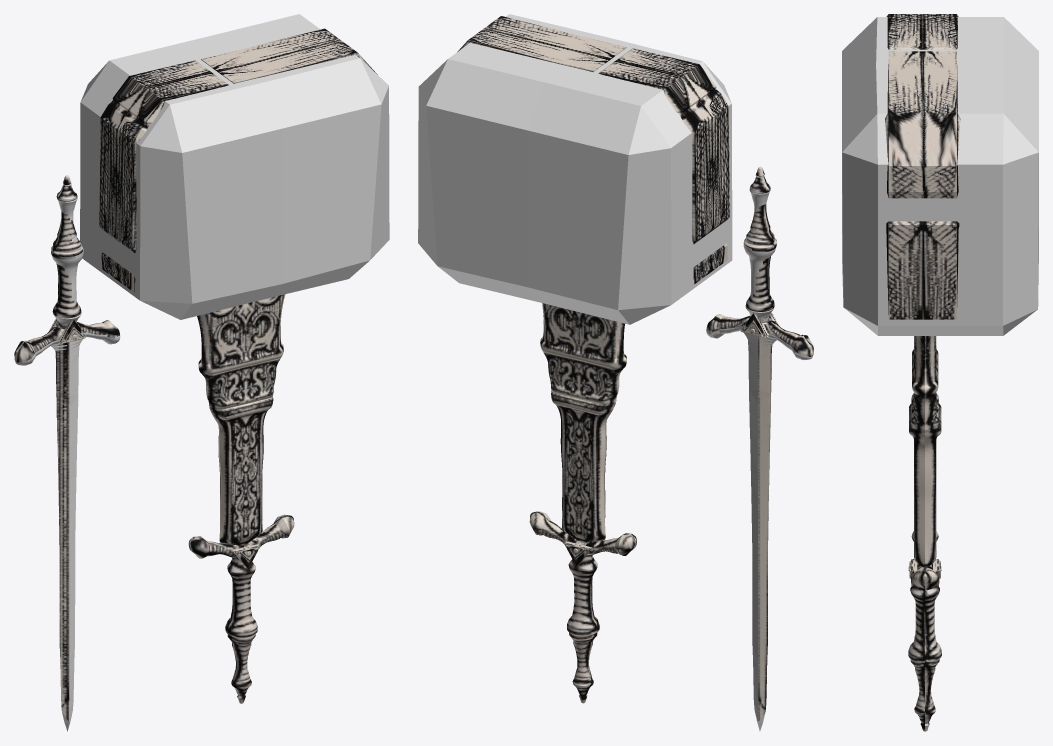
The model's file is Sword_Bloodborne.fbx.
3 views of the same model, side by side, from view 1: azimuth 30°, elevation 25°; view 2: azimuth 150°, elevation 25°; view 3: azimuth 270°, elevation 25° (orthographic). The views are drawn at different scales.
Visible parts, largest first — view 1: Cube.003, Plane.004, Plane.003, Plane.005, Plane, Cylinder.005, Cylinder.006, Cylinder.004, Cylinder.007, Cylinder; view 2: Cube.003, Plane.003, Plane.004, Plane.005, Plane, Cylinder.005, Cylinder.006, Cylinder.004, Cylinder.007, Cylinder; view 3: Cube.003, Plane.003, Plane.004, Cylinder.005, Cylinder.004.
Boxes of the visible parts, x1,y1,x2,y2 form: Cube.003: (80, 14, 389, 319); Plane.004: (197, 294, 285, 545); Plane.003: (99, 28, 377, 292); Plane.005: (55, 342, 69, 721); Plane: (51, 338, 83, 731); Cylinder.005: (225, 556, 257, 703); Cylinder.006: (51, 175, 83, 329); Cylinder.004: (188, 514, 294, 558); Cylinder.007: (14, 320, 119, 362); Cylinder: (51, 183, 83, 330); Cube.003: (418, 14, 732, 324); Plane.003: (457, 16, 729, 284); Plane.004: (540, 303, 626, 542); Plane.005: (758, 336, 772, 721); Plane: (744, 333, 776, 731); Cylinder.005: (567, 553, 599, 703); Cylinder.006: (744, 166, 776, 322); Cylinder.004: (529, 511, 636, 555); Cylinder.007: (706, 314, 813, 356); Cylinder: (743, 174, 776, 324); Cube.003: (842, 17, 1038, 335); Plane.003: (885, 14, 960, 319); Plane.004: (909, 336, 941, 567); Cylinder.005: (908, 585, 941, 731); Cylinder.004: (911, 531, 938, 590).
Bounding box in the file's own units: 2152 × 3730 × 995.
